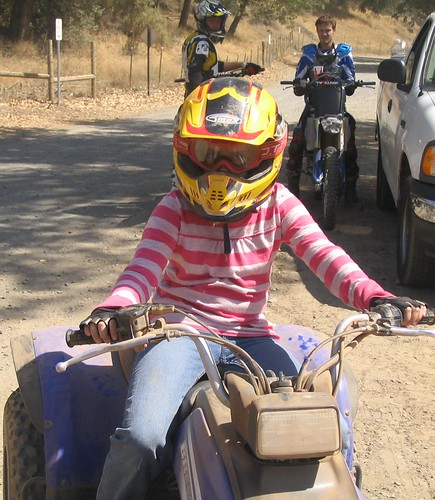helmet: (167, 68, 287, 225), (189, 0, 230, 41)
